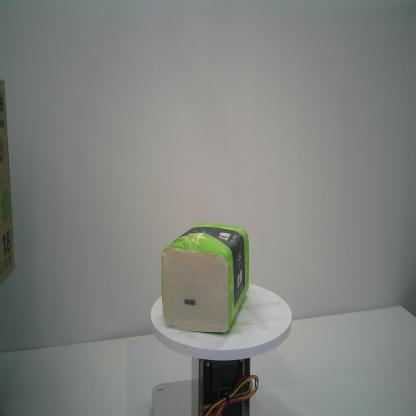Tissue: (159, 221, 251, 335)
